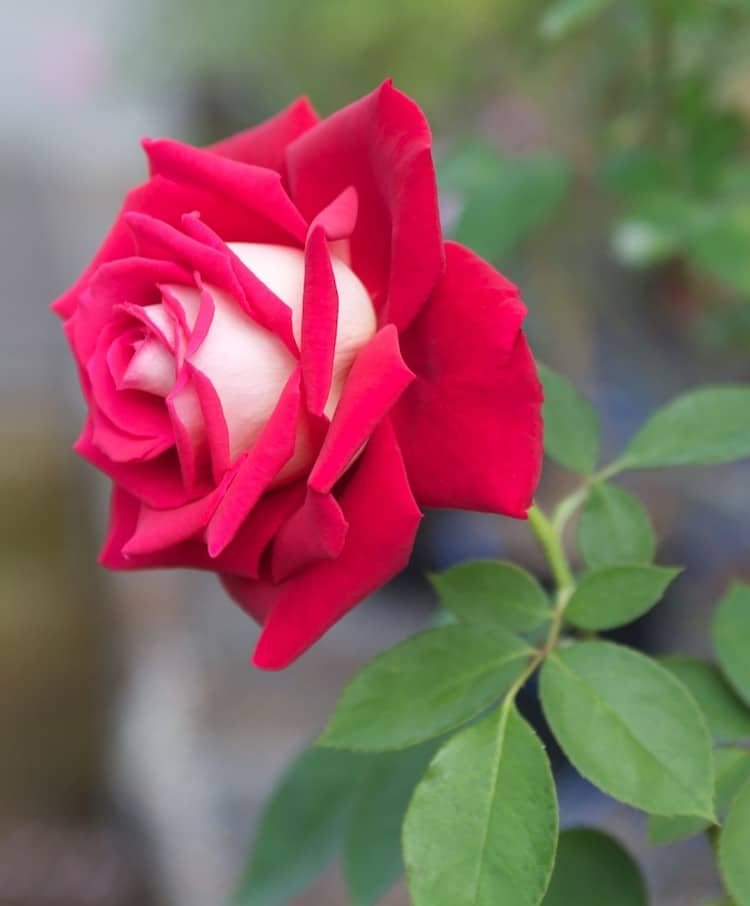rose: (31, 88, 595, 686)
